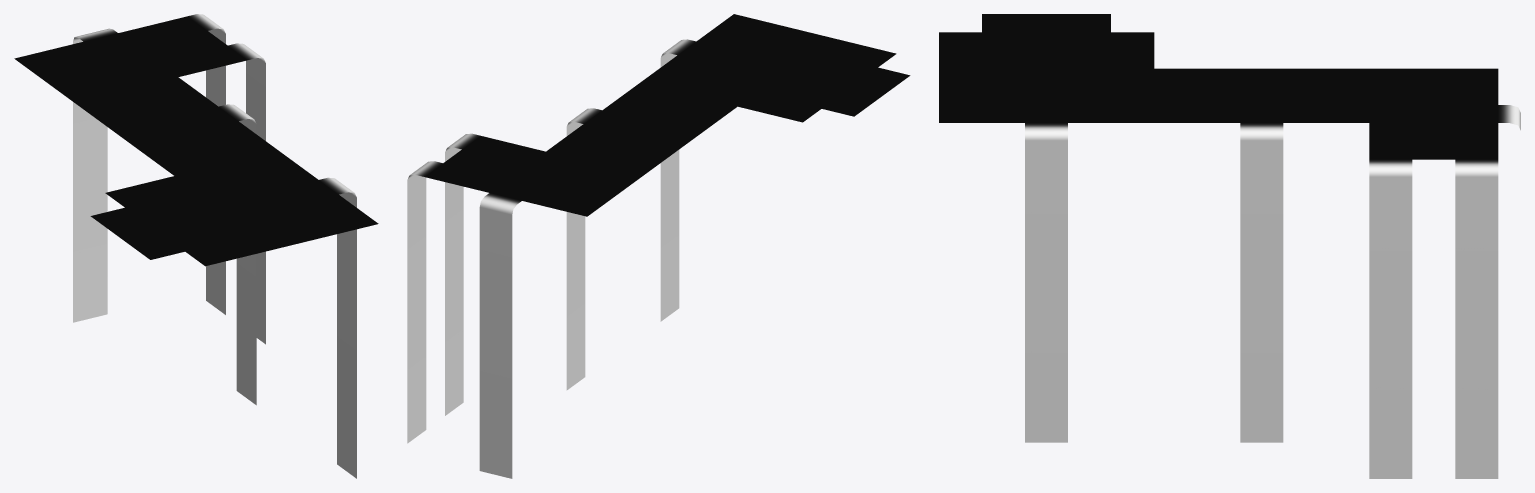
Rendered from ghostRoom2_MESH.fbx.
3 views of the same model, side by side, from view 1: azimuth 30°, elevation 25°; view 2: azimuth 150°, elevation 25°; view 3: azimuth 270°, elevation 25° (orthographic). The views are drawn at different scales.
Visible parts, largest first — view 1: ghostRoom2; view 2: ghostRoom2; view 3: ghostRoom2.
Part boxes in pixels (x1=…): ghostRoom2: x1=14, y1=14, x2=378, y2=478; ghostRoom2: x1=407, y1=14, x2=910, y2=478; ghostRoom2: x1=939, y1=14, x2=1520, y2=478.
Size of the model in its own units: 8.52 by 7.95 by 13.52.
1 material, 1 textured.
